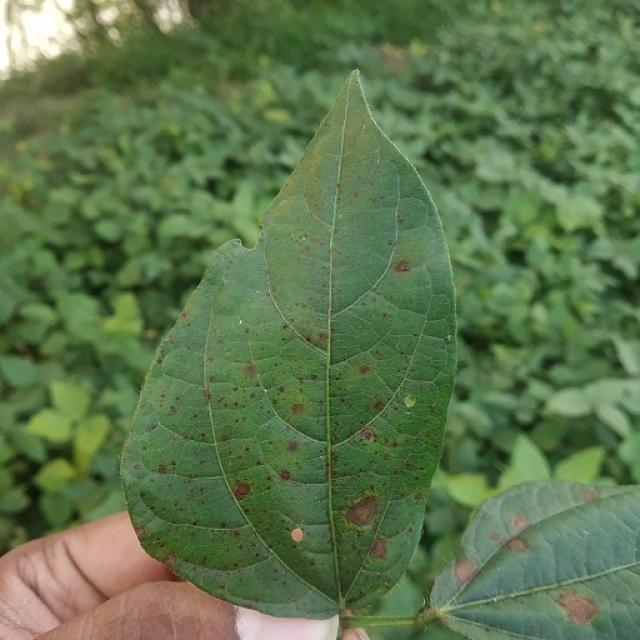Anthracnose: (339, 486, 383, 534), (553, 589, 600, 627), (294, 326, 327, 348), (454, 558, 478, 585), (431, 609, 453, 629), (505, 537, 530, 552), (232, 481, 251, 499), (510, 514, 529, 531), (392, 259, 411, 273), (290, 526, 304, 542), (338, 607, 354, 621), (243, 364, 257, 378), (359, 428, 374, 441), (403, 394, 417, 407), (286, 440, 299, 452), (291, 403, 303, 415), (279, 469, 291, 481), (358, 364, 370, 375), (373, 401, 385, 412), (203, 389, 212, 403), (156, 463, 167, 474)
Blackgram: (121, 71, 454, 618)
